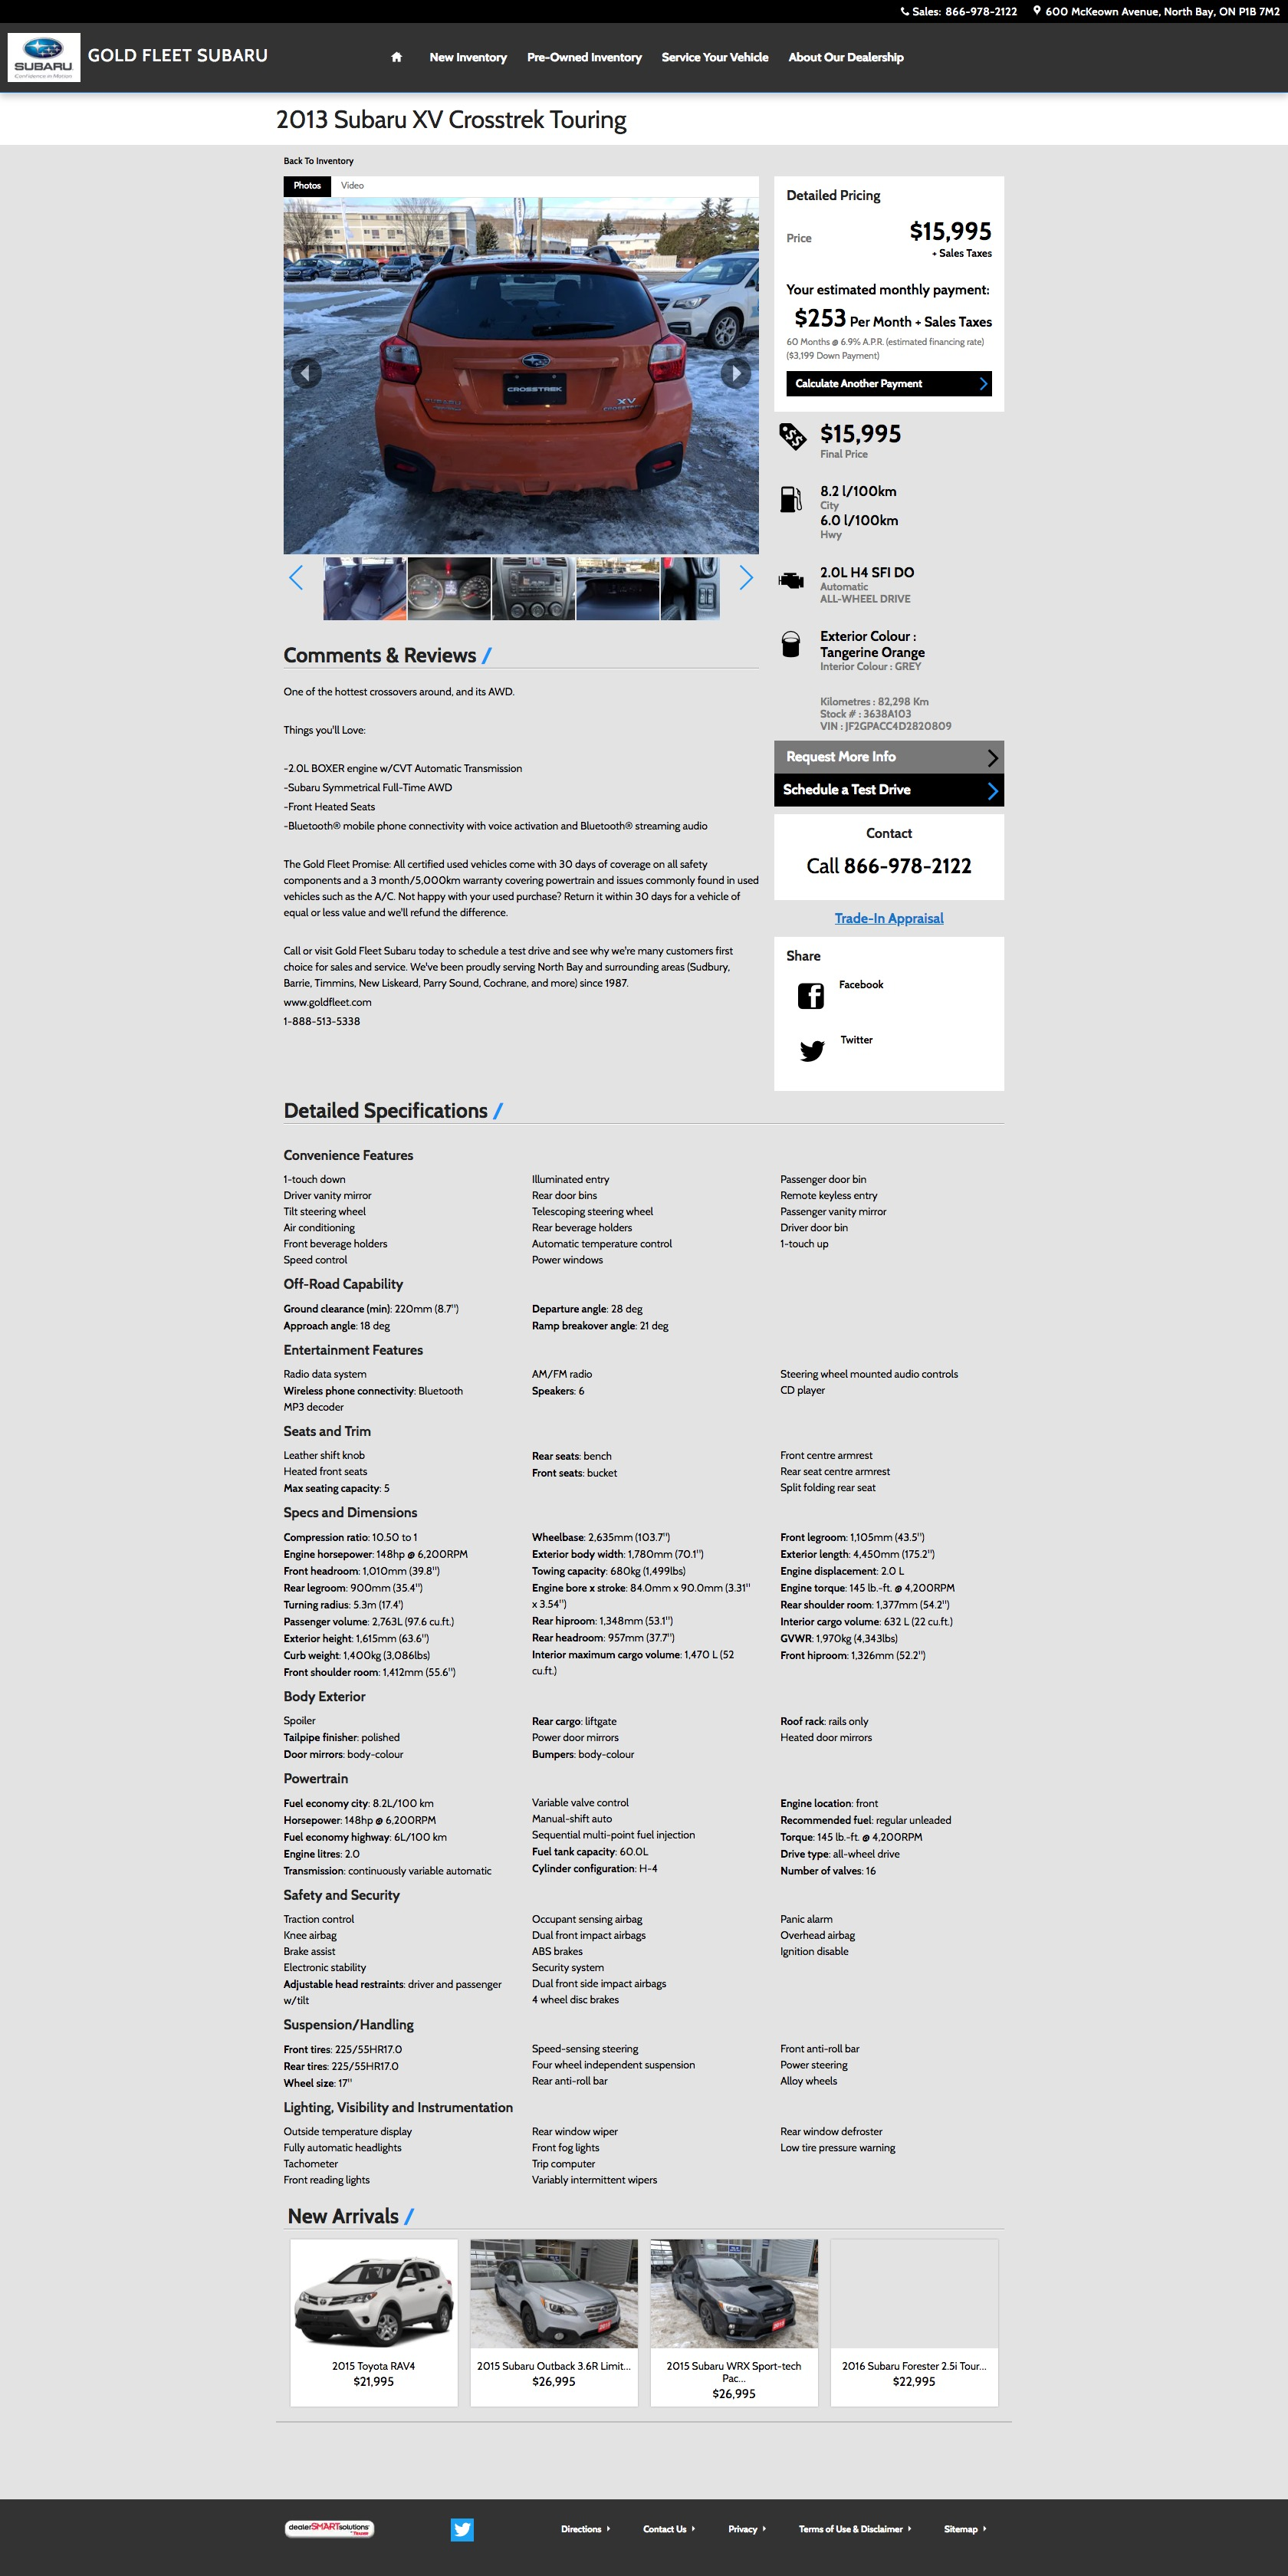car: (739, 565, 754, 591)
